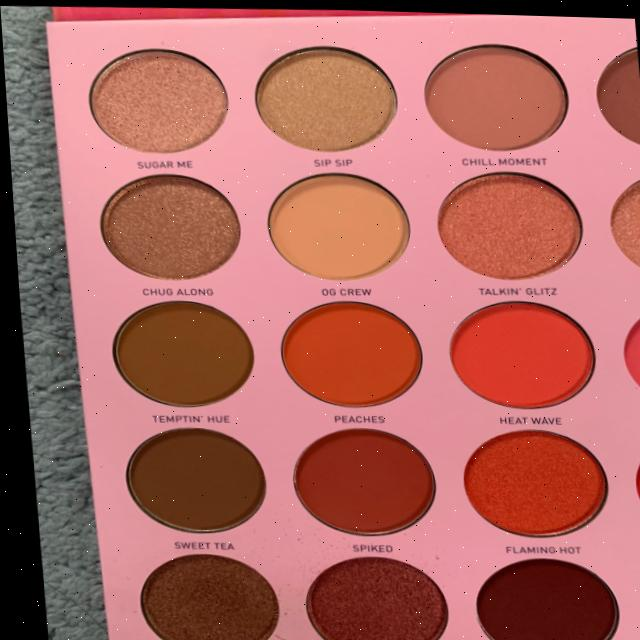eye shade: (84, 169, 640, 416), (106, 420, 640, 545), (89, 36, 243, 151), (244, 49, 399, 150), (424, 44, 571, 149), (291, 560, 437, 640), (469, 554, 601, 640), (132, 563, 269, 640), (623, 544, 640, 640)
